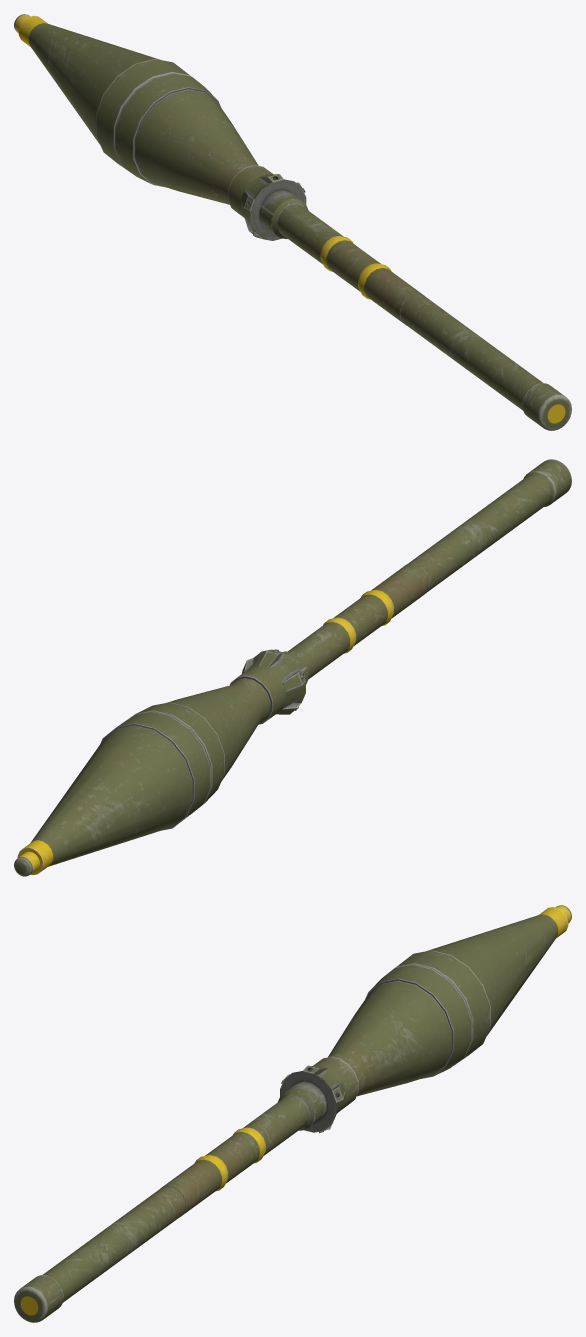
File: rpg_projectile.glb
3 renders of one model, top to bottom at view 1: azimuth 30°, elevation 25°; view 2: azimuth 150°, elevation 25°; view 3: azimuth 330°, elevation 25°, orthographic.
Visible parts, largest first — view 1: LoadedRocket; view 2: LoadedRocket; view 3: LoadedRocket.
Boxes of the visible parts, <box> form: LoadedRocket: <box>14,14,571,430</box>; LoadedRocket: <box>14,459,571,876</box>; LoadedRocket: <box>14,905,571,1322</box>.
Size of the model in its own units: 0.0887 by 0.0887 by 0.8334.
Materials: 1 (1 with a texture image).
